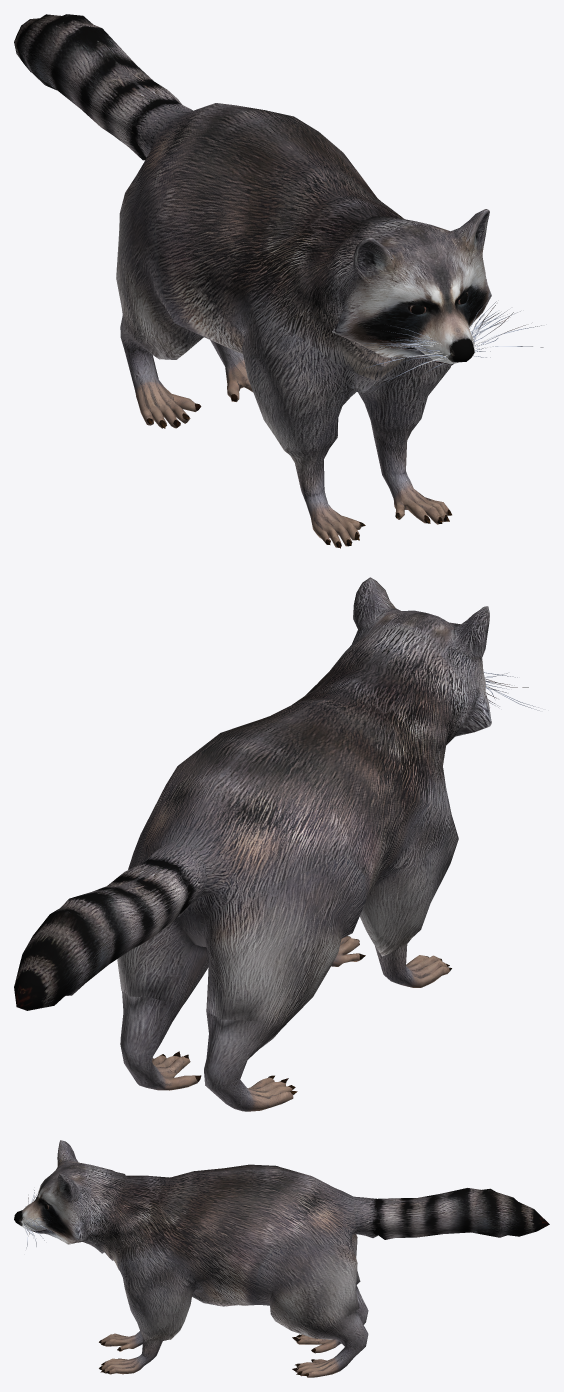
Rendered from Raccoon.fbx.
3 renders of one model, top to bottom at view 1: azimuth 30°, elevation 25°; view 2: azimuth 150°, elevation 25°; view 3: azimuth 270°, elevation 25°, orthographic. The views are drawn at different scales.
Parts seen in each view (by area): view 1: sm_1_0_0; view 2: sm_1_0_0; view 3: sm_1_0_0.
Boxes of the visible parts, bbox=[...] form: sm_1_0_0: bbox=[14, 14, 543, 548]; sm_1_0_0: bbox=[14, 577, 539, 1111]; sm_1_0_0: bbox=[14, 1140, 549, 1377].
Bounding box in the file's own units: 24.18 × 37.72 × 90.65.
2 materials, 2 textured.
